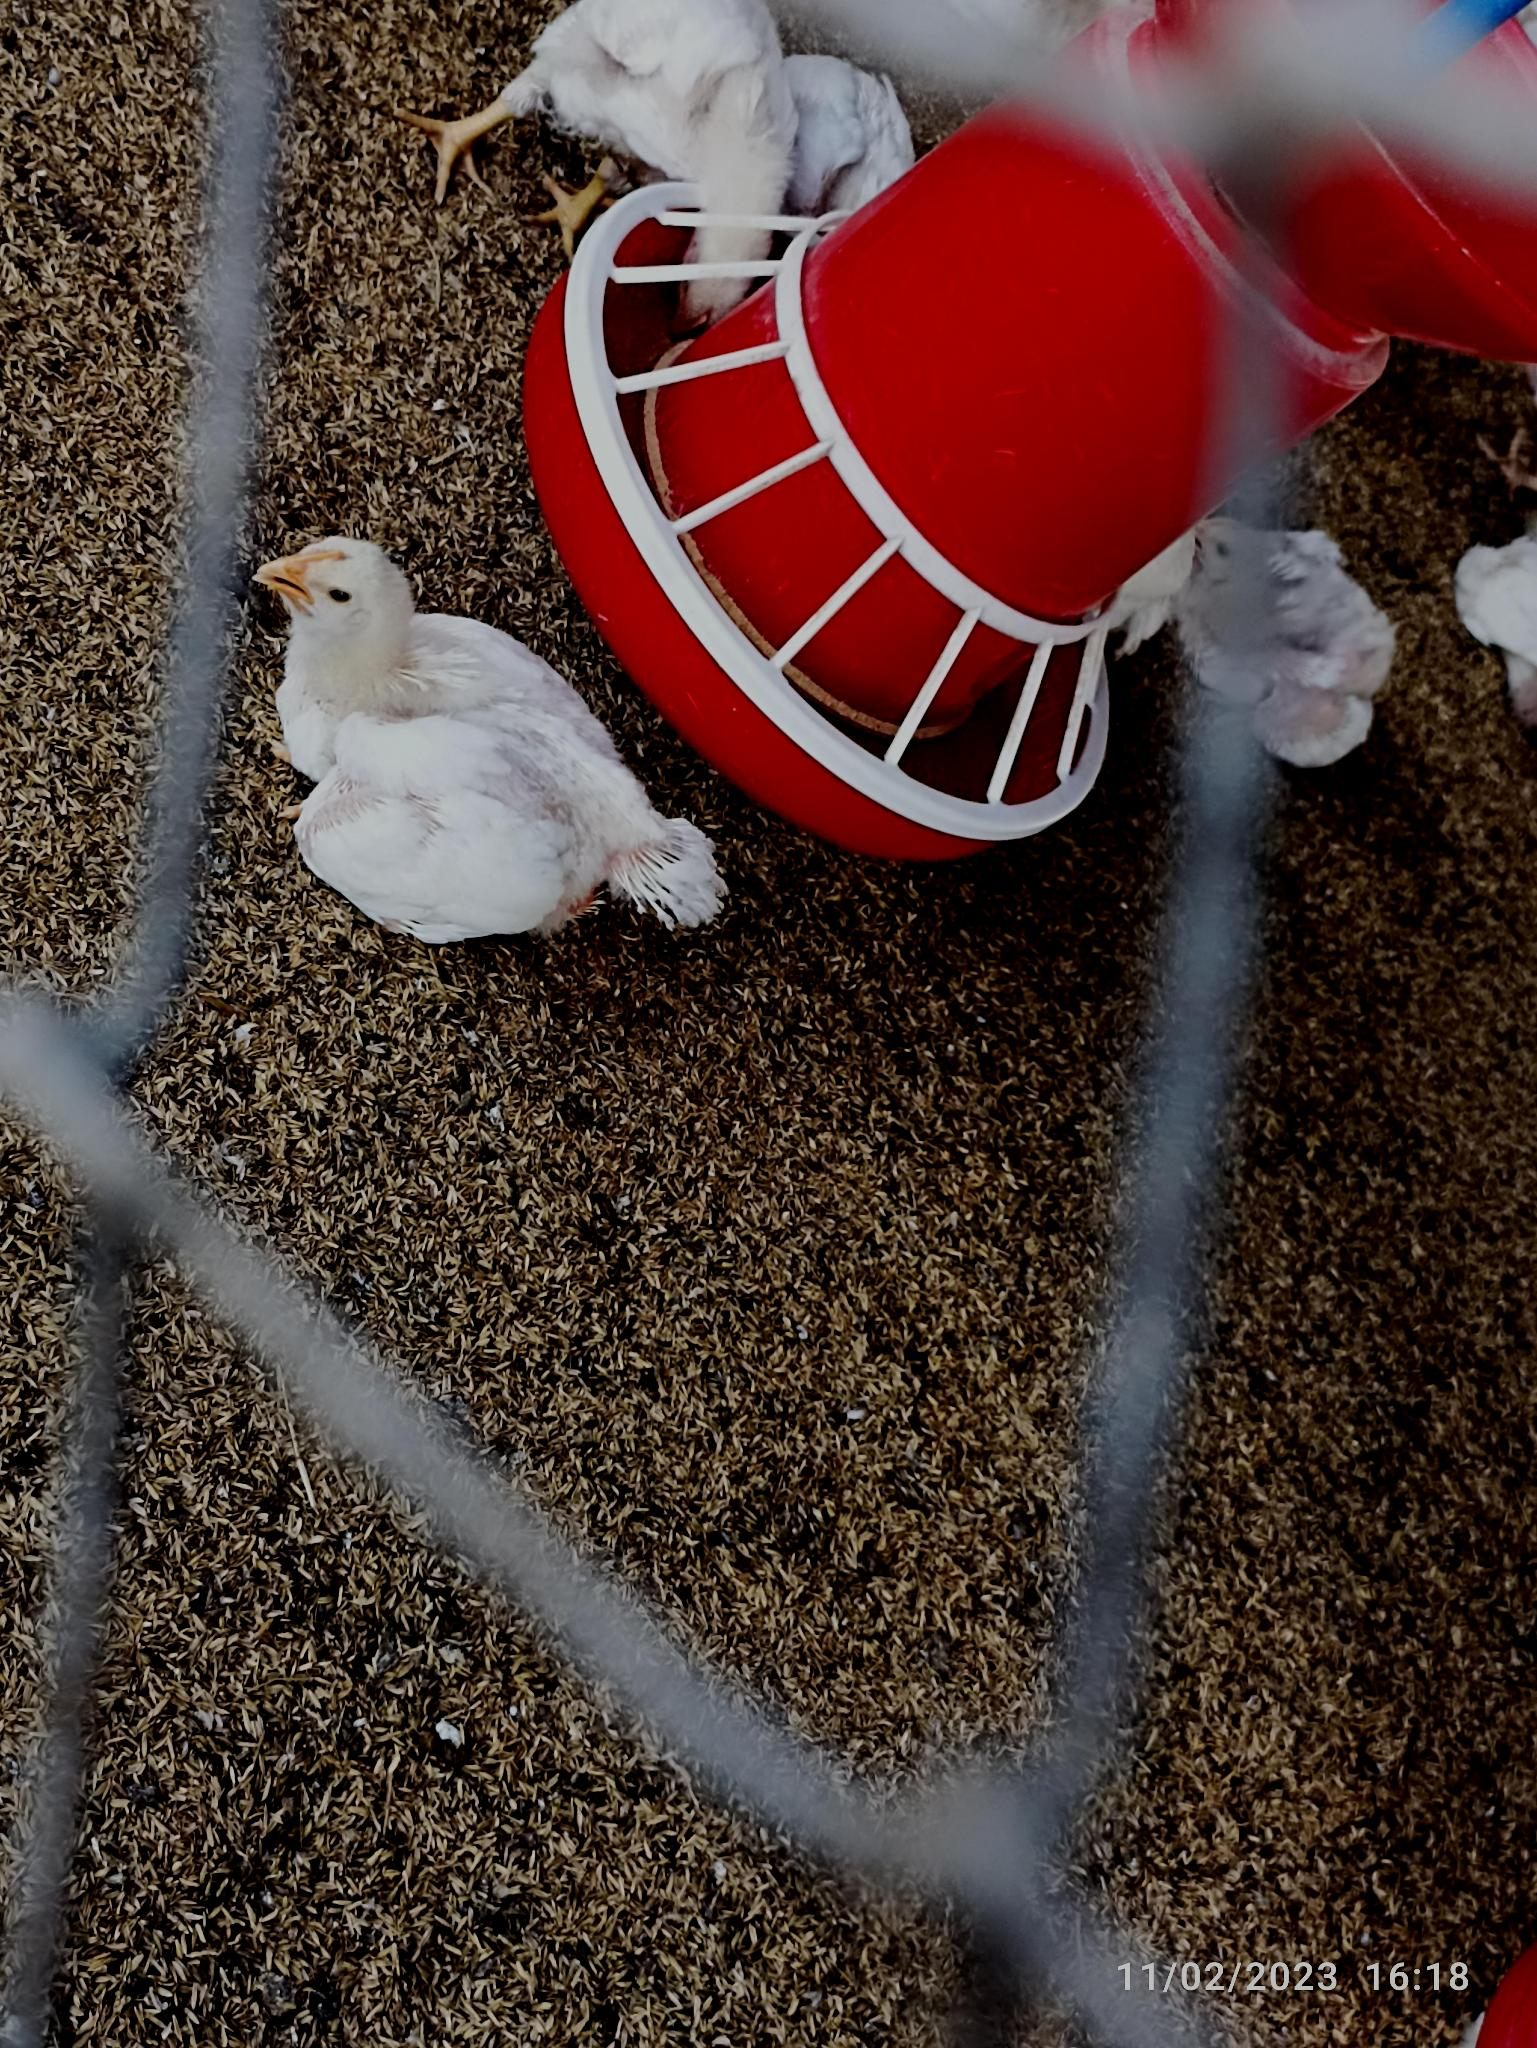Pollos: (266, 533, 706, 944), (554, 2, 807, 279), (1204, 510, 1397, 781)
